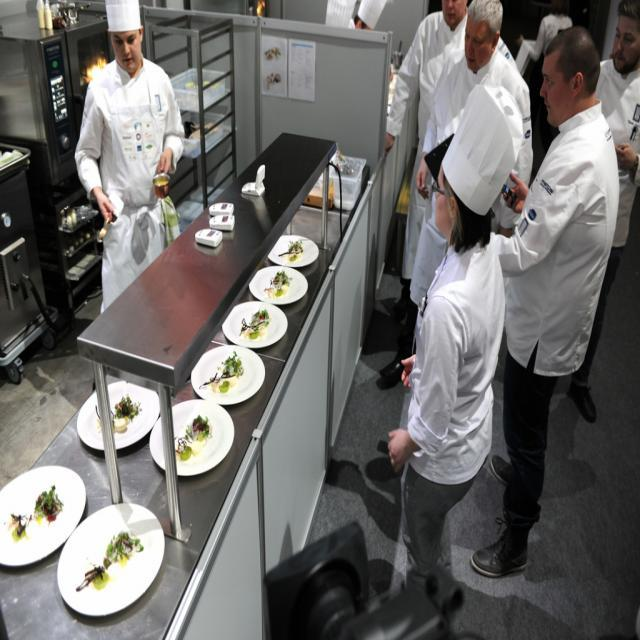ceramic plate: (60, 496, 172, 618), (3, 466, 111, 588), (74, 360, 155, 468)
